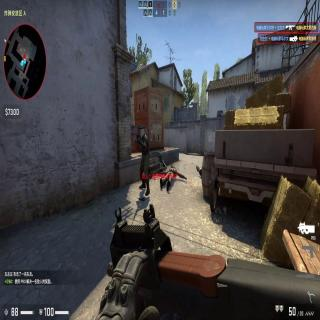T-Body: (134, 125, 150, 172)
T-Head: (139, 126, 145, 138)
